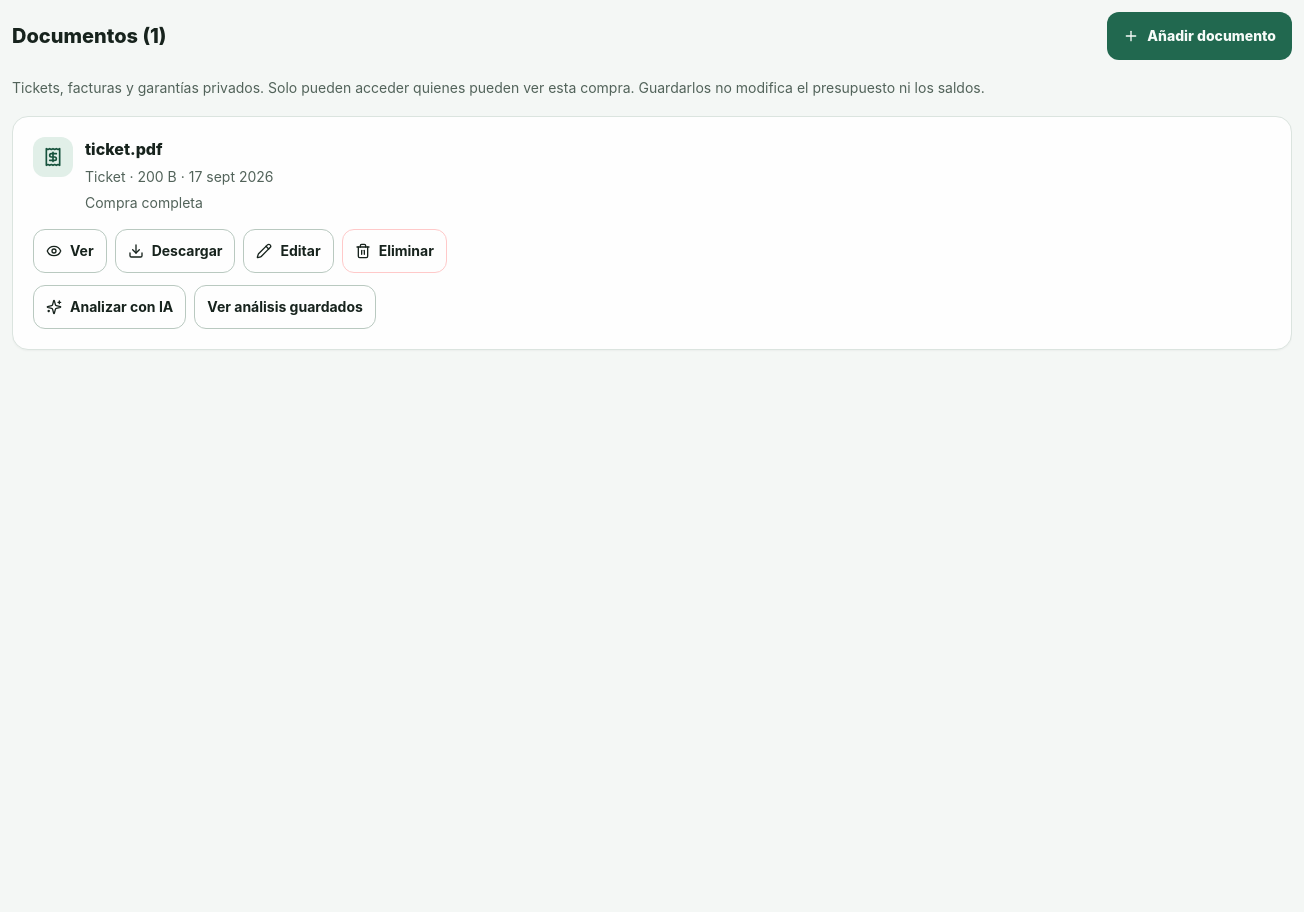
Test: PurchaseDocumentAnalysisPanel › shows safe actionable analysis errors without raw provider detail or automatic retries: {"status":429}
The image size is (1304, 912).
Click the button with aria-label "Analizar con IA ticket.pdf".
click(110, 307)  # box [33, 285, 186, 329]
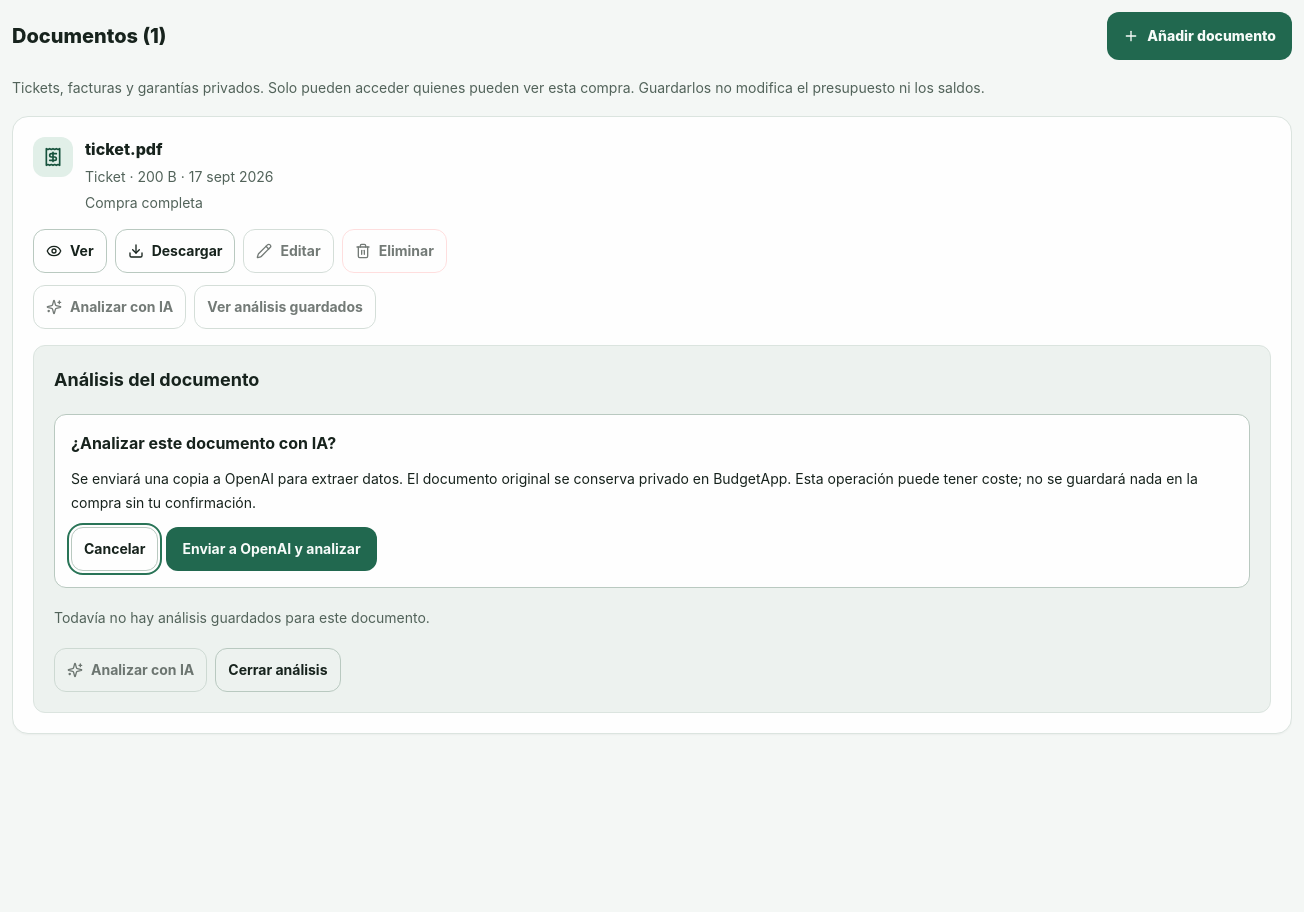
Click the button "Enviar a OpenAI y analizar".
click(272, 549)  # box [166, 527, 377, 571]
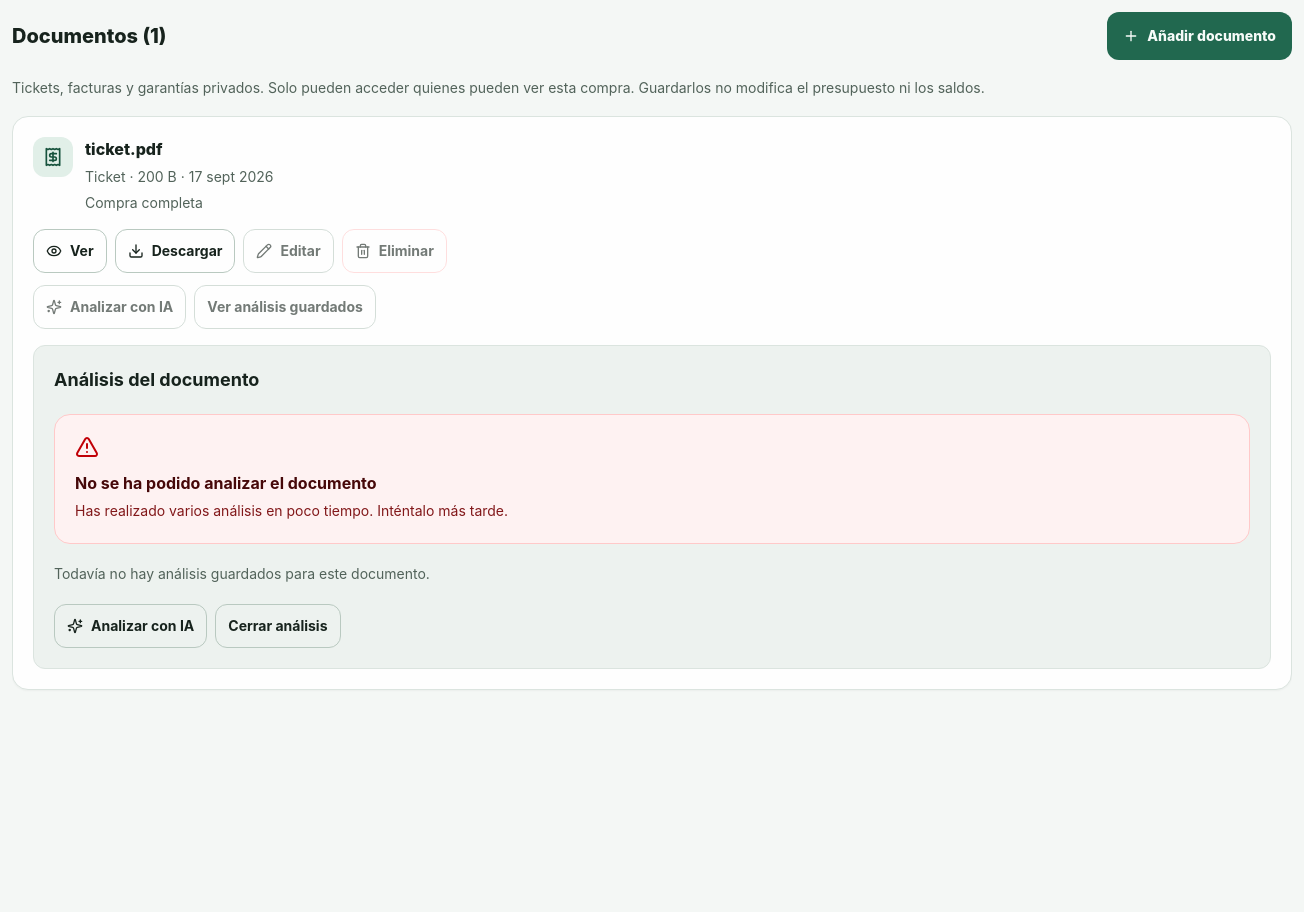
Expected: the message shows "Has realizado varios análisis en poco tiempo", [75, 502, 508, 519]
